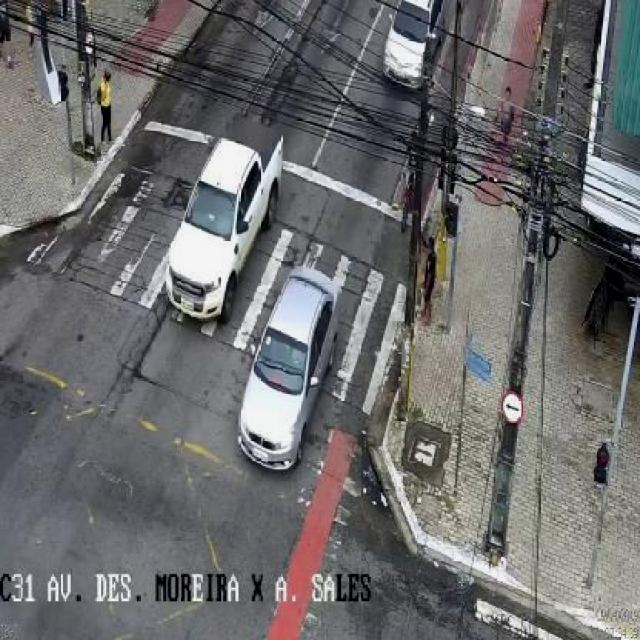Car: (152, 119, 294, 349), (226, 264, 354, 481), (368, 0, 446, 102)
